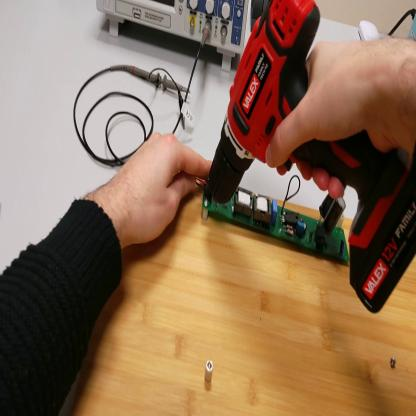electric screwdriver: (202, 1, 416, 315)
hand: (266, 36, 402, 186), (114, 135, 213, 249)
high voltage board: (174, 171, 350, 263)
oscilloscope: (96, 3, 252, 74)
oscilloscope probe tip: (125, 65, 192, 99)
welder station: (410, 13, 415, 40)
working area: (71, 174, 416, 414)
